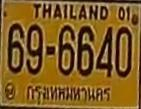0: (115, 26, 131, 76)
4: (95, 26, 112, 76)
6: (7, 22, 25, 74), (76, 25, 93, 75), (58, 24, 74, 75)
9: (26, 24, 44, 74)
BKK: (25, 82, 111, 106)
